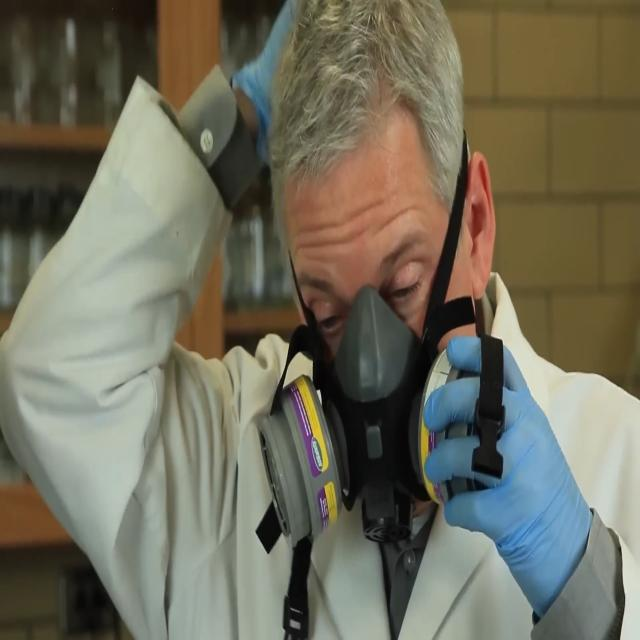labcoat: (0, 73, 640, 640)
